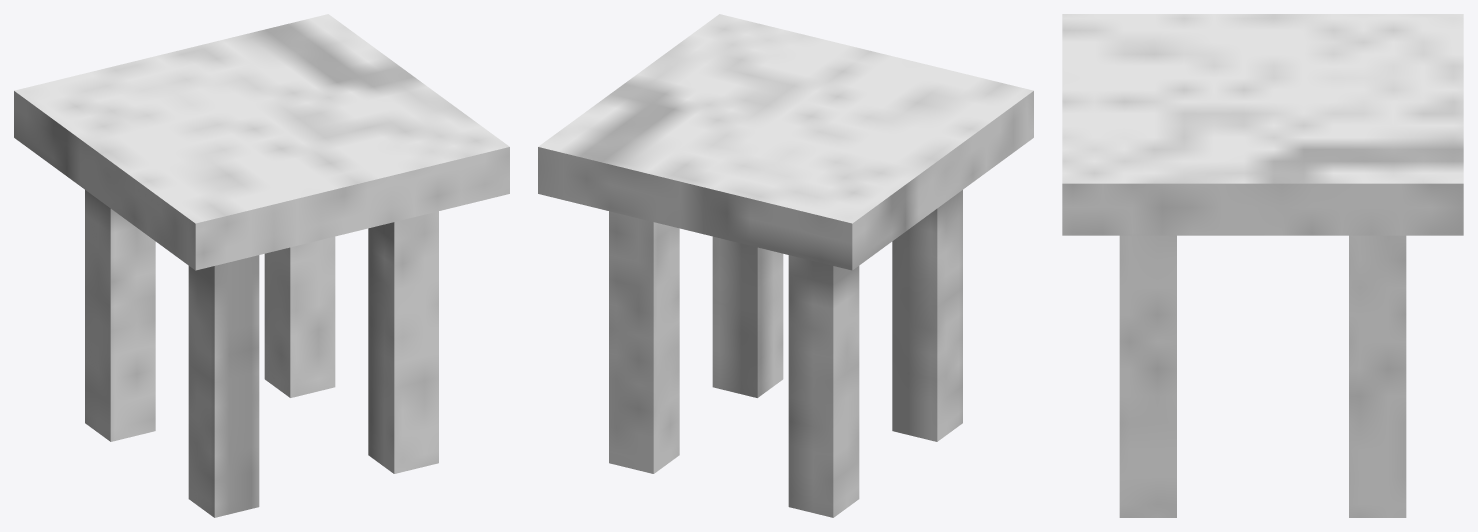
Rendered from Endtable.fbx.
3 renders of one model, left to right at view 1: azimuth 30°, elevation 25°; view 2: azimuth 150°, elevation 25°; view 3: azimuth 270°, elevation 25°, orthographic. The views are drawn at different scales.
Visible parts, largest first — view 1: Endtable2; view 2: Endtable2; view 3: Endtable2.
Part boxes in pixels (x1=…): Endtable2: x1=14, y1=14, x2=509, y2=517; Endtable2: x1=538, y1=14, x2=1033, y2=517; Endtable2: x1=1062, y1=14, x2=1463, y2=517.
Size of the model in its own units: 8.75 by 8.63 by 8.75.
